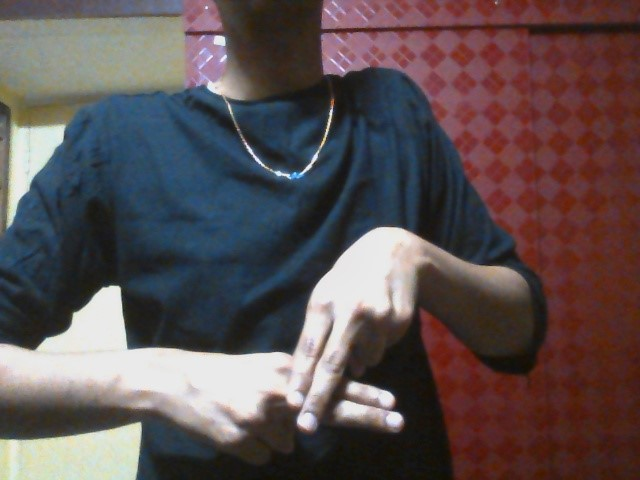F: (189, 247, 406, 463)
